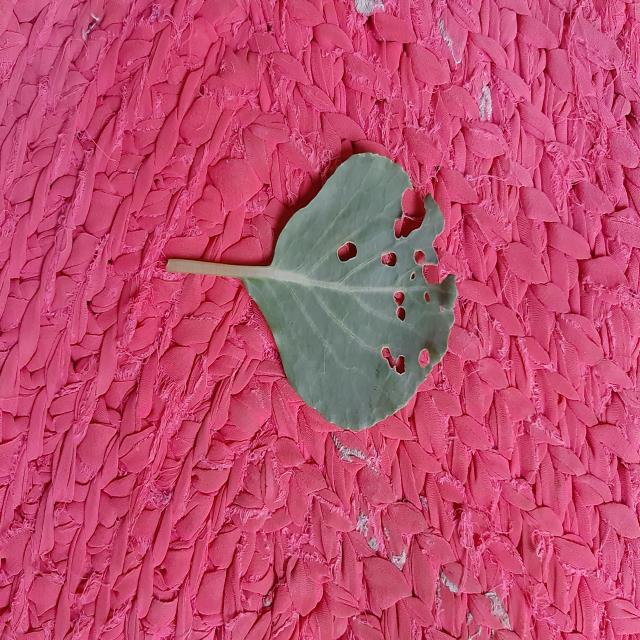Kohlrabi: (168, 153, 458, 431)
